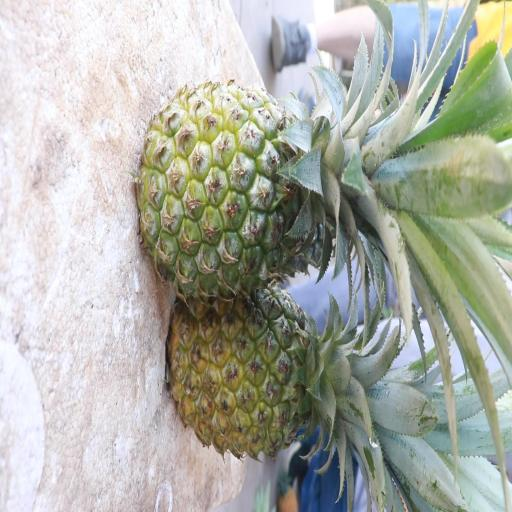------------------------------: (138, 85, 368, 287)
Pineapple - v8 v1: (171, 290, 374, 457)
